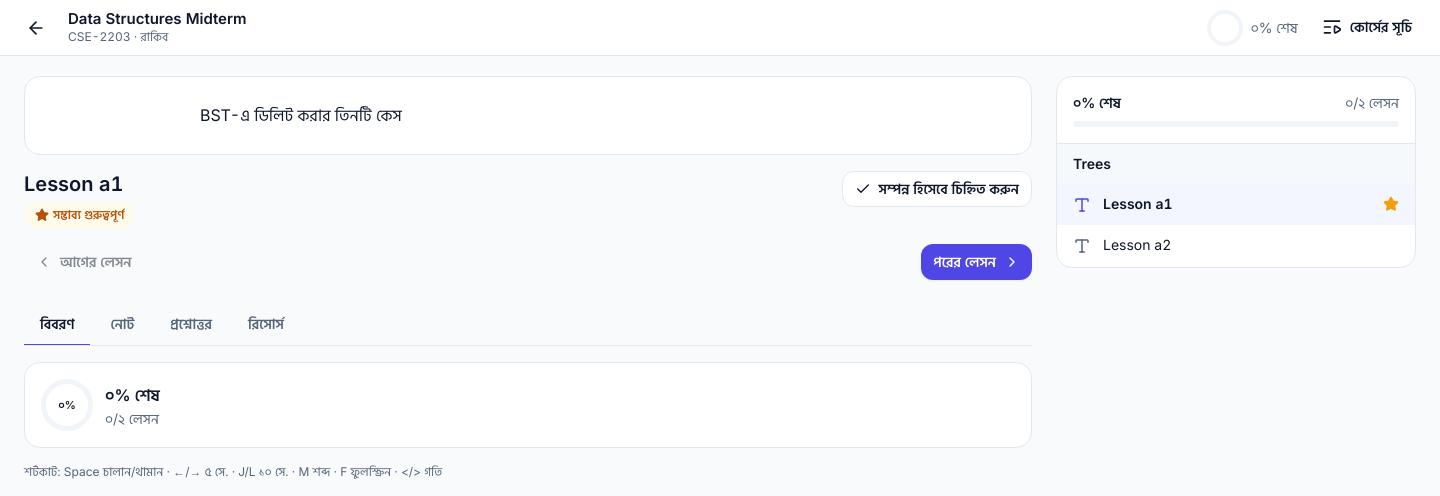
Test: learning › player: text lesson, mark complete updates progress, next lesson, curriculum
The width and height of the screenshot is (1440, 496).
Check: the text "BST-এ ডিলিট করার তিনটি কেস" is shown, box [200,105,402,125]
Check: the text "সম্ভাব্য গুরুত্বপূর্ণ" is shown, box [24,202,135,228]
Click the button "সম্পন্ন হিসেবে চিহ্নিত করুন" at (937, 189), box [842,171,1032,207]
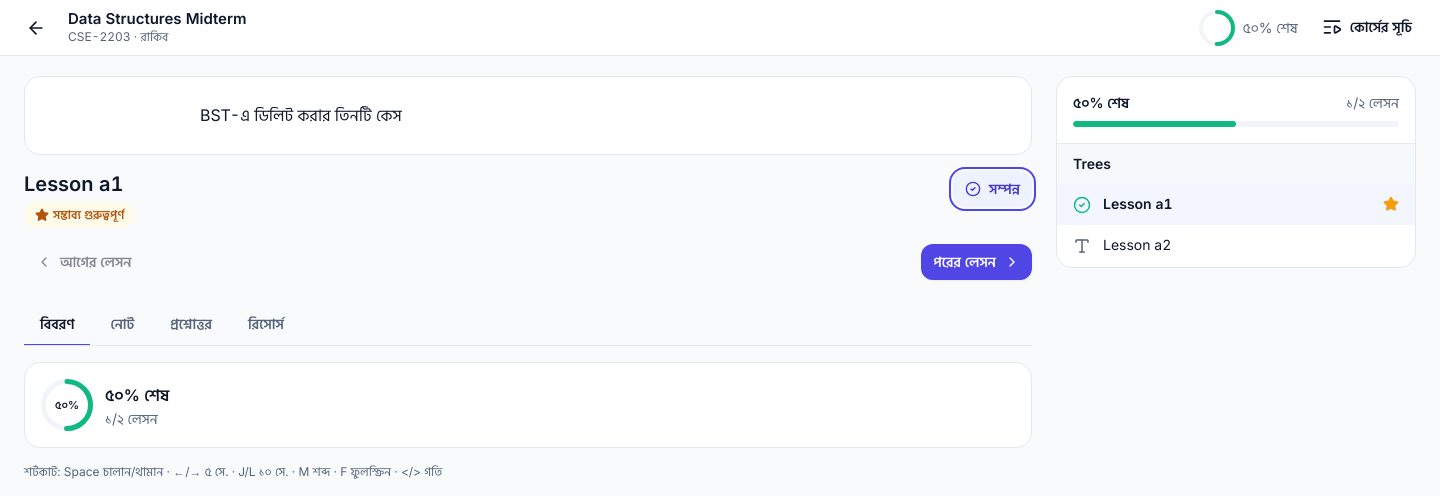
Check: the text "৫০% শেষ" in the row of "Data Structures Midterm" is shown, box [1243,18,1298,36]
